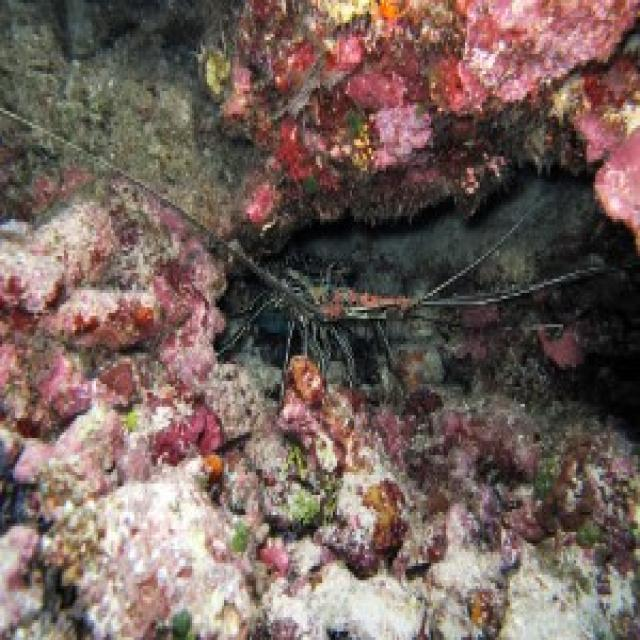lobsters: (182, 149, 614, 455)
